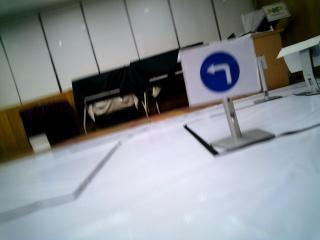left: (184, 47, 259, 89)
